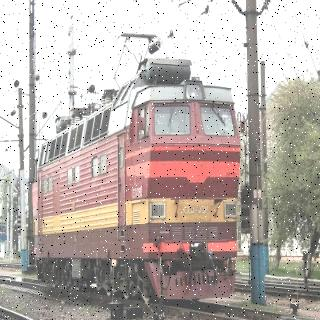poezd: (36, 68, 248, 291)
